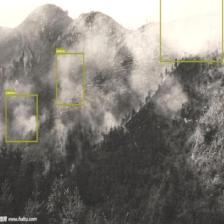smoke: (160, 0, 223, 62), (5, 94, 37, 142), (56, 53, 84, 106)
